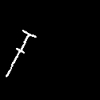double_crochet: (6, 30, 35, 76)
